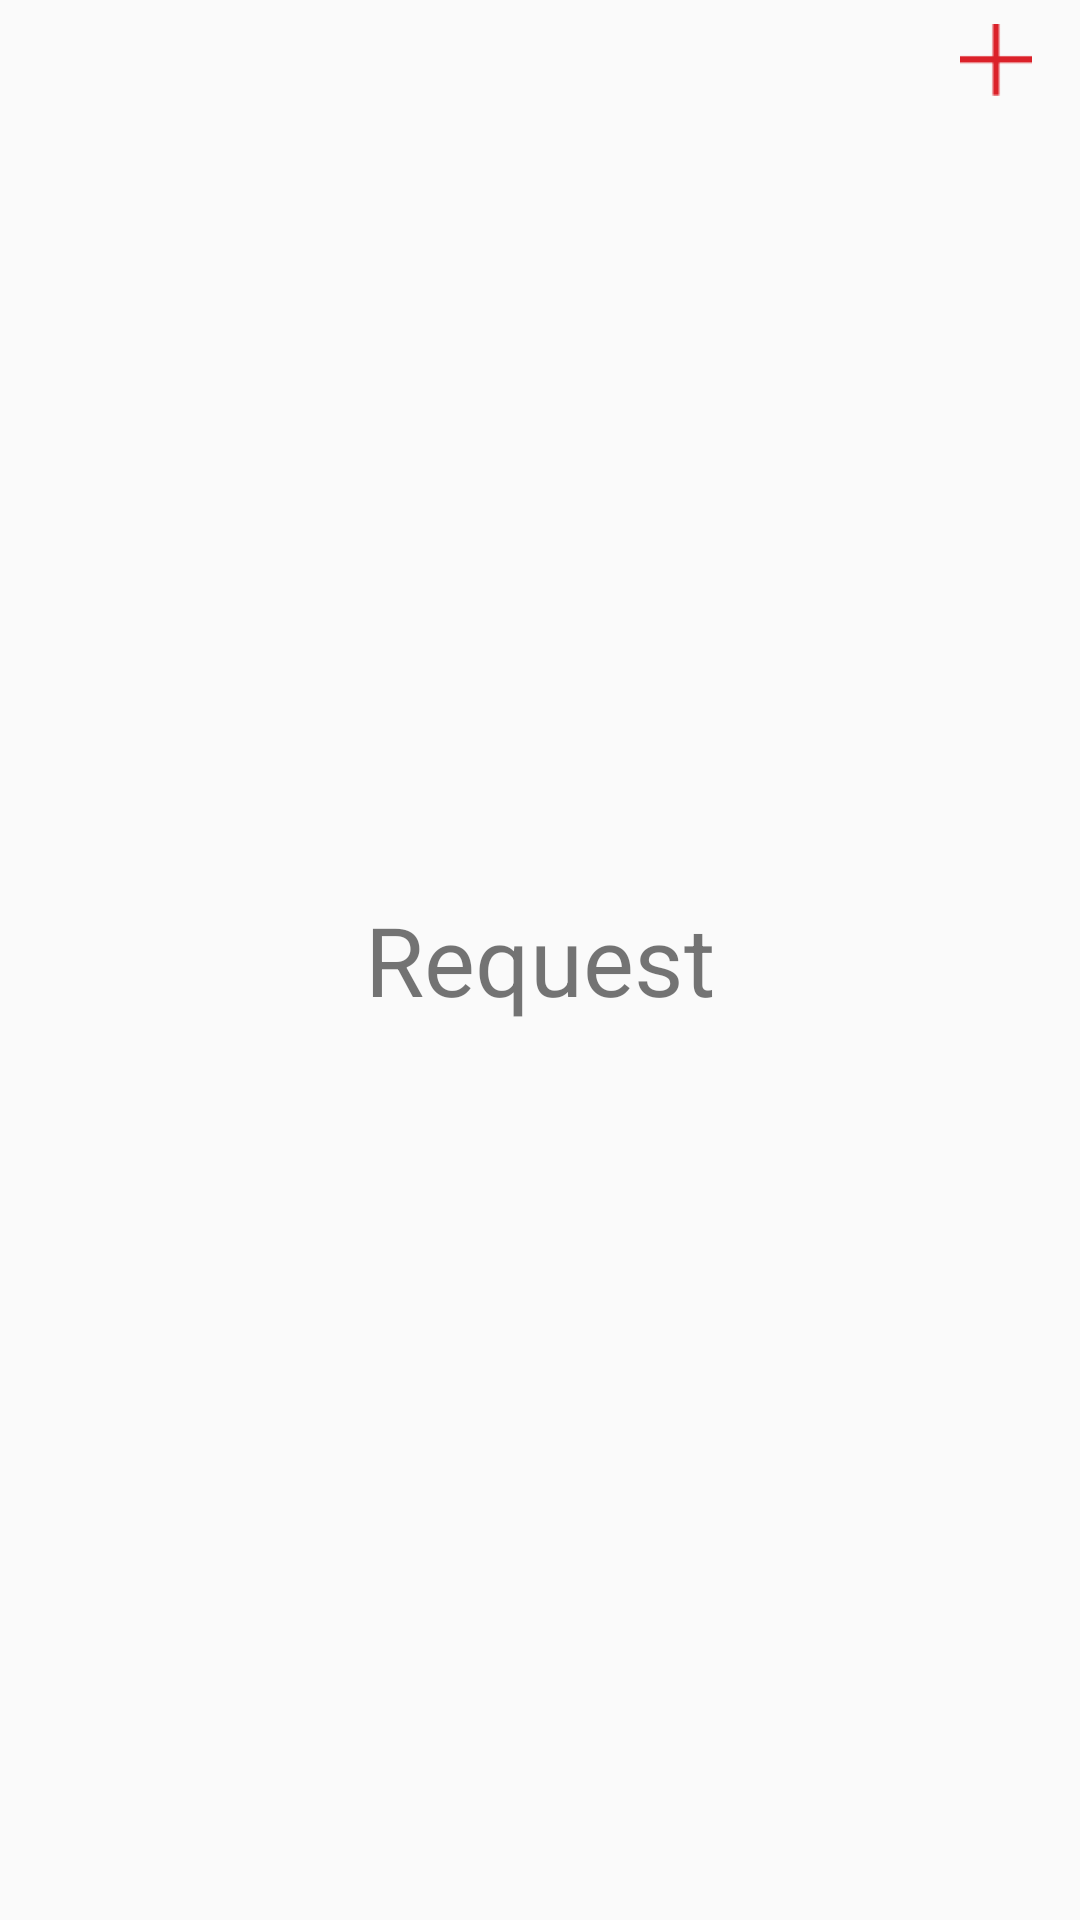

Screen size 1080px x 1920px. Icon name, then its center in pixels as [x,y]:
addtrip: [996,60]
